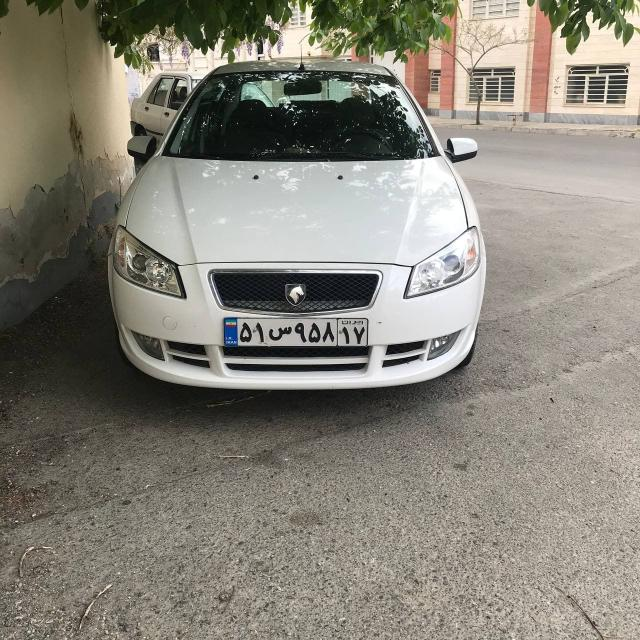Plates: (224, 319, 368, 346)
